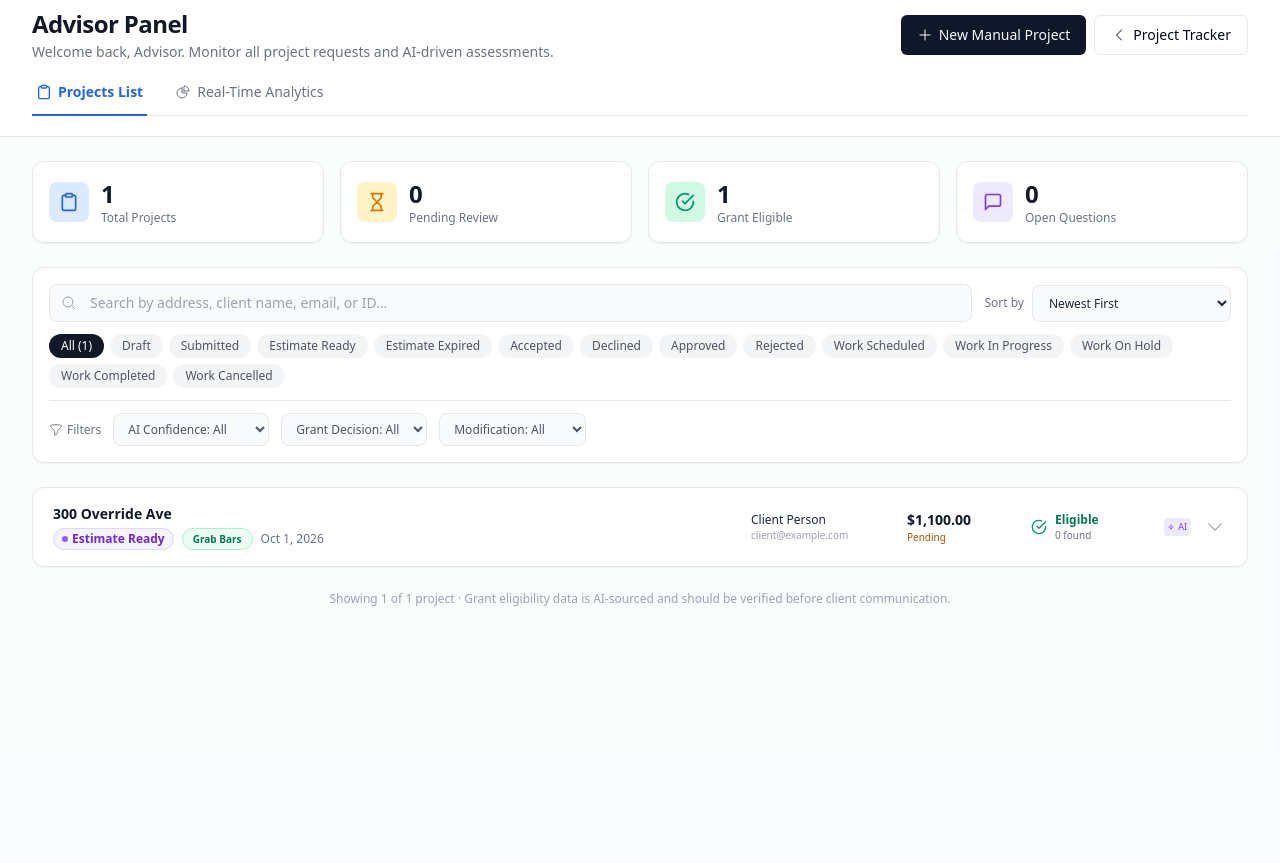
Admin dashboard override attribution › shows a single post-estimate override without an edit count or history
Click the text "300 Override Ave".
click(112, 514)  # box [53,504,172,523]
(page scrolled)
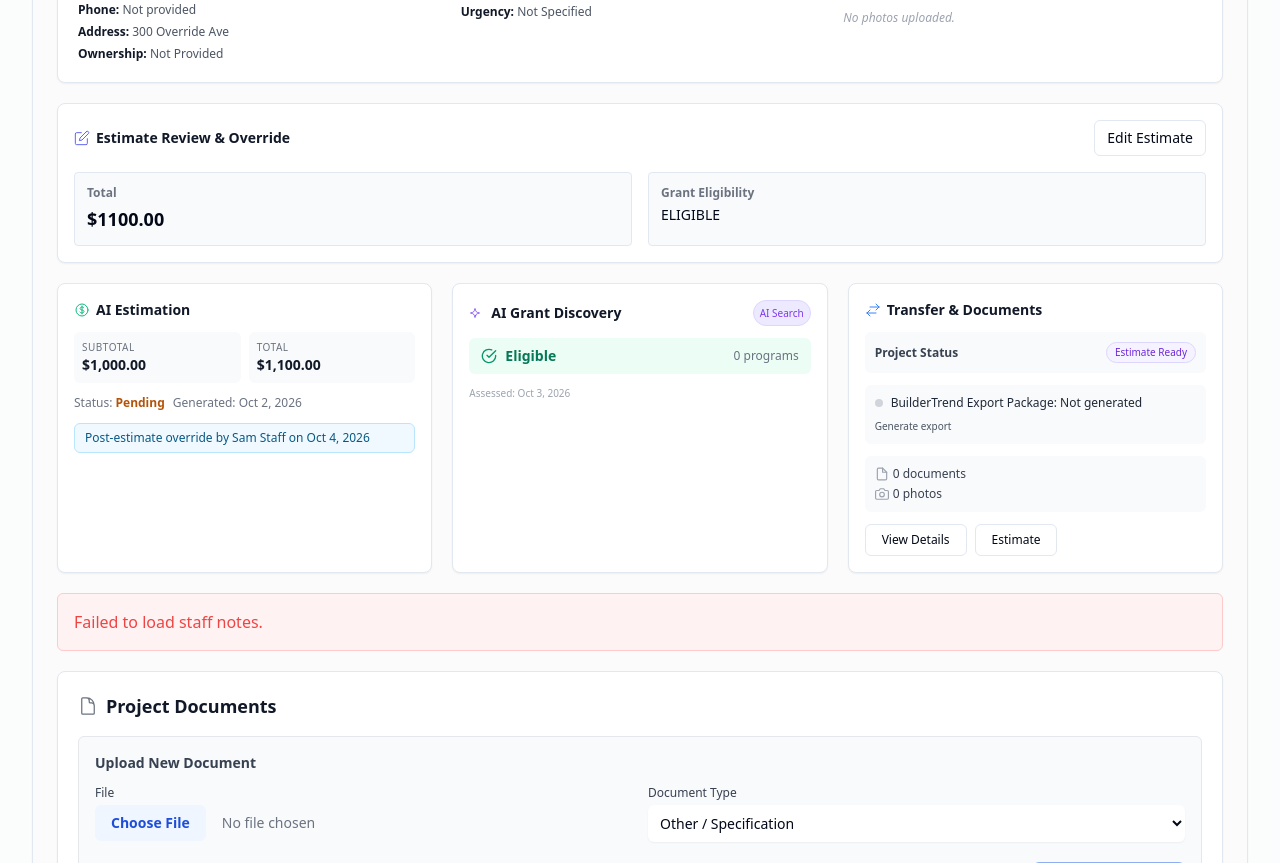
Expected: the text "Post-estimate override by Sam Staff on Oct 4, 2026" is shown, [85,430,404,446]
